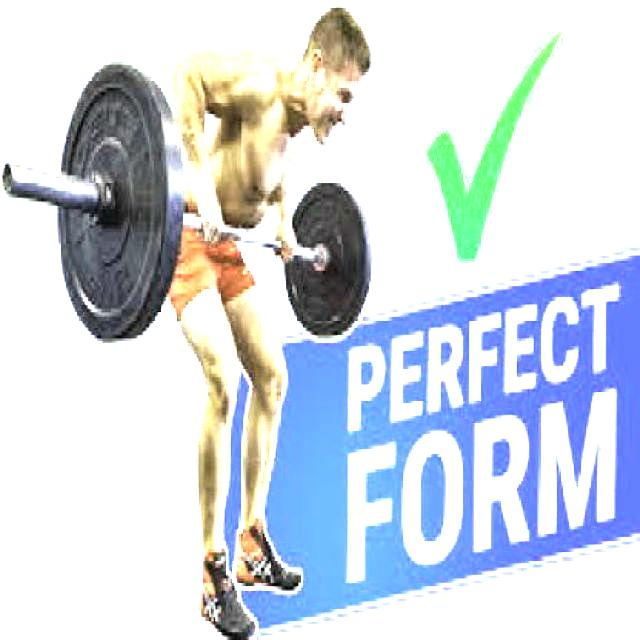barbell: (37, 50, 193, 355)
